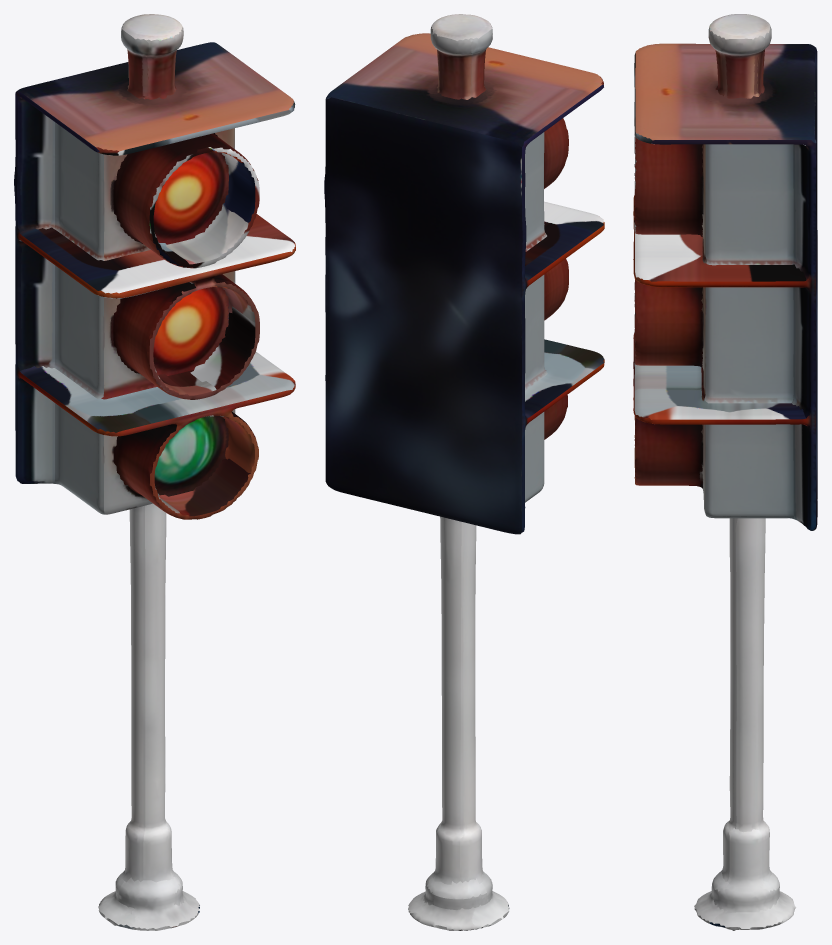
File: semaforo.glb
The picture shows the model from 3 angles, left to right: view 1: azimuth 30°, elevation 25°; view 2: azimuth 150°, elevation 25°; view 3: azimuth 270°, elevation 25°; orthographic projection.
Parts seen in each view (by area): view 1: tmpwmpdut_n.ply; view 2: tmpwmpdut_n.ply; view 3: tmpwmpdut_n.ply.
Boxes of the visible parts, x1,y1,x2,y2 form: tmpwmpdut_n.ply: (14,14,295,930); tmpwmpdut_n.ply: (324,14,604,930); tmpwmpdut_n.ply: (633,14,817,930).
Bounding box in the file's own units: 0.2361 × 0.9925 × 0.1868.
Materials: 1 (1 with a texture image).
